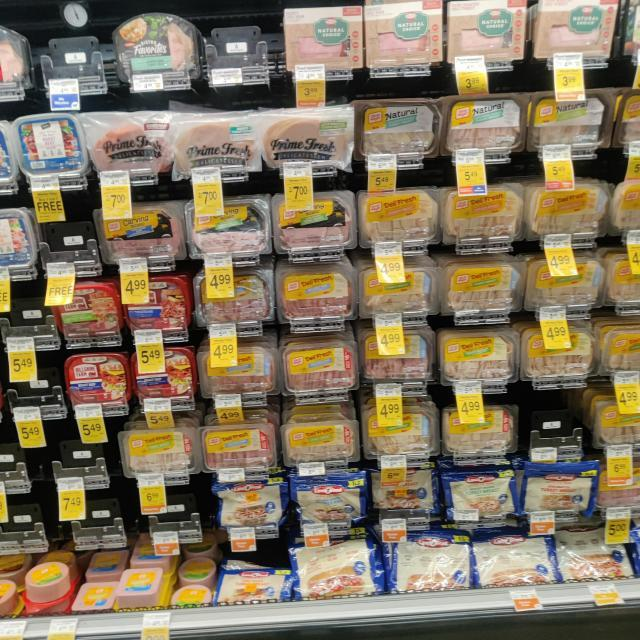Meat: (260, 105, 362, 173), (106, 12, 202, 82), (173, 103, 261, 179), (439, 87, 531, 159), (85, 110, 174, 182), (434, 329, 523, 397), (531, 0, 627, 63), (280, 8, 368, 76), (182, 196, 272, 262), (13, 112, 88, 190), (362, 0, 448, 68), (528, 92, 618, 155), (446, 0, 528, 69), (98, 200, 182, 266), (191, 339, 279, 402), (356, 94, 439, 160), (441, 258, 522, 325), (363, 257, 439, 327), (276, 193, 359, 257), (287, 477, 377, 536), (439, 188, 527, 248), (191, 265, 275, 326), (114, 425, 202, 483), (523, 250, 608, 310), (524, 180, 610, 239), (62, 345, 134, 415), (128, 343, 196, 417), (356, 327, 434, 391), (518, 460, 598, 522), (47, 279, 124, 343), (362, 188, 440, 251), (277, 336, 364, 392), (520, 322, 596, 384), (274, 269, 354, 327), (449, 471, 527, 527), (207, 479, 291, 531), (372, 462, 439, 527), (120, 276, 192, 336), (446, 403, 520, 461), (282, 421, 362, 473), (363, 404, 441, 456), (202, 417, 276, 471)
